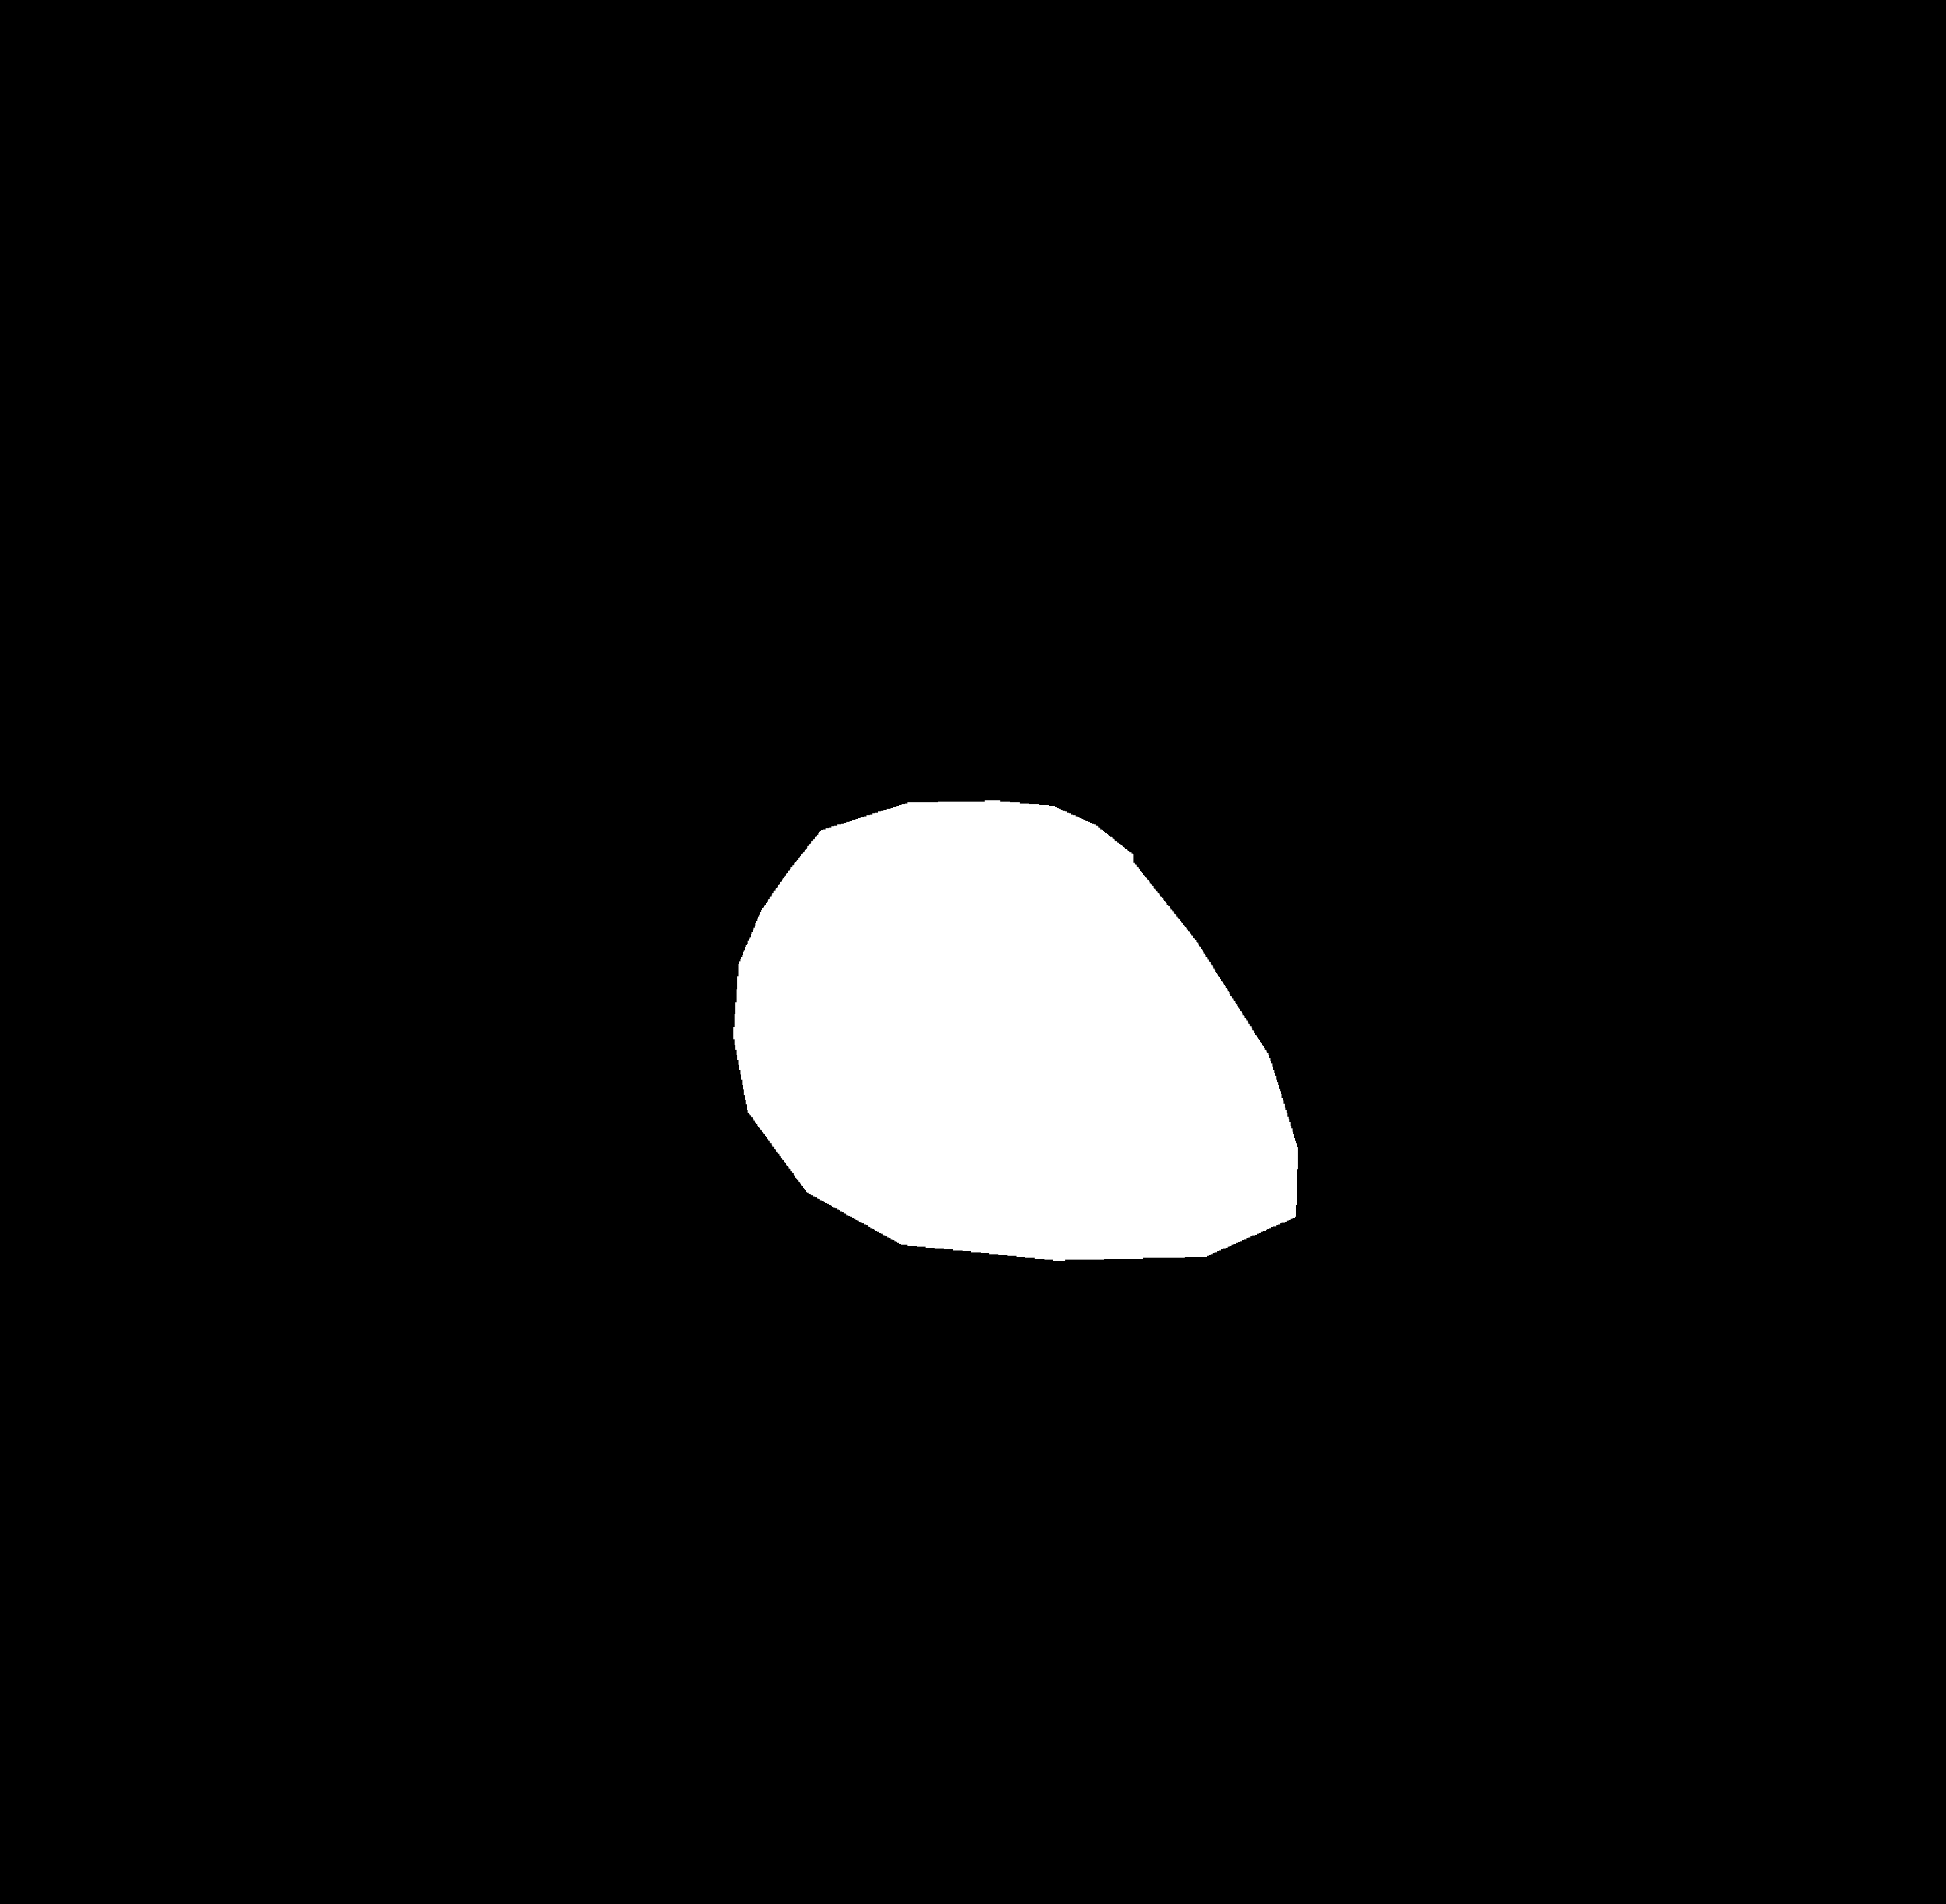heart: (739, 833, 1313, 1297)
left_lung: (349, 328, 891, 1264)
right_lung: (1050, 324, 1489, 1363)
